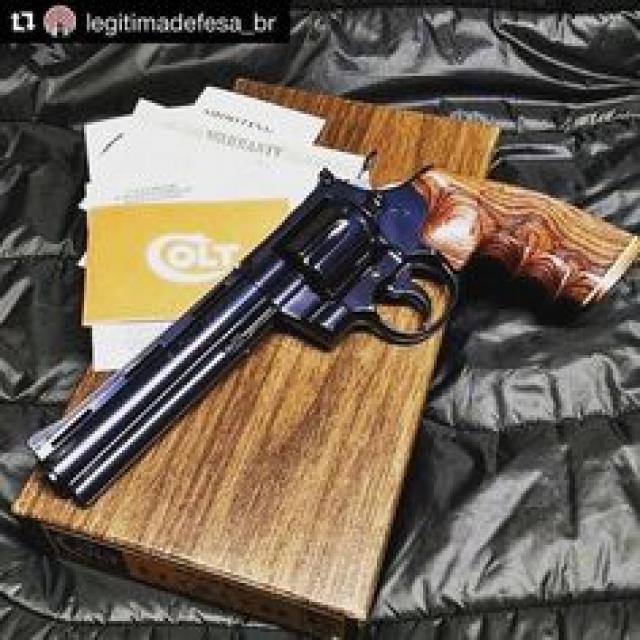revolver: (35, 141, 640, 517)
